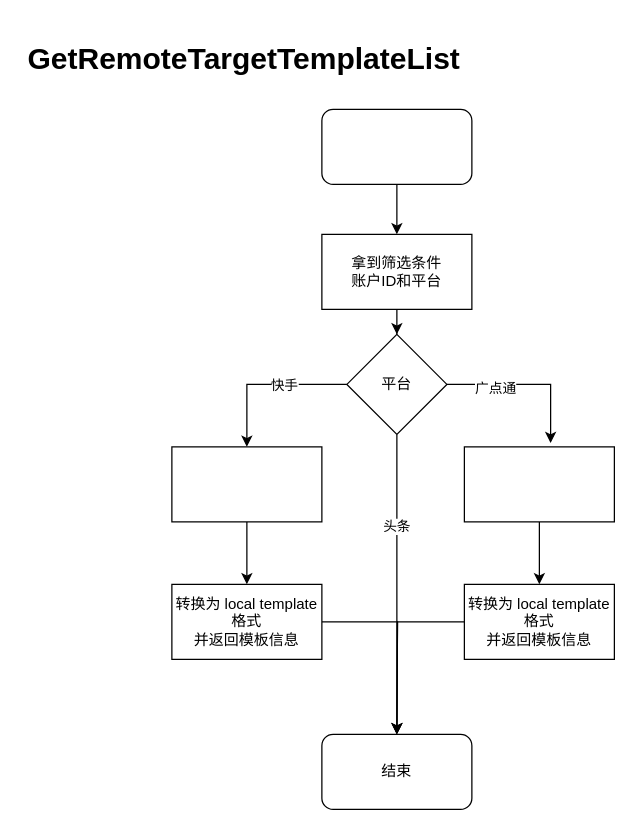
The diagram is 636 pixels wide and 831 high, and some of its shapes have lost their labels. Each missing label, with the box of its shape:
开始: (321, 108, 472, 184)
构建gdt请求体 从gdt API 拿到 定向模板: (463, 446, 614, 522)
构建快手请求体 从快手 API 拿到 定向模板: (171, 446, 322, 522)
